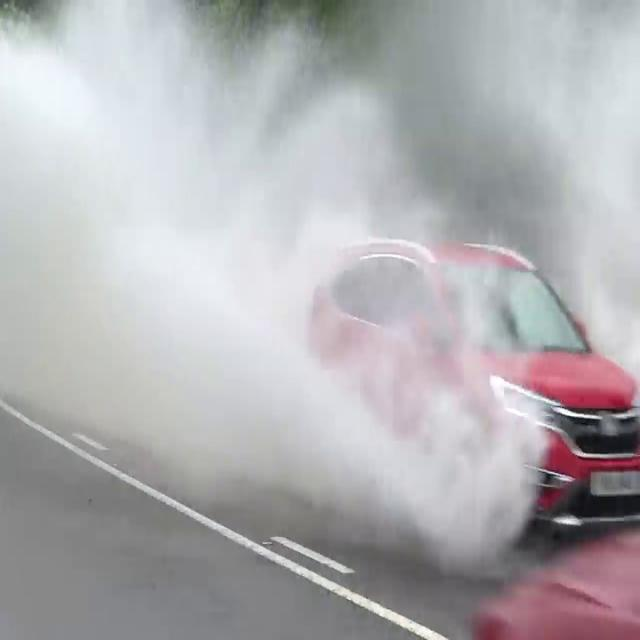license-plate-annotation: (586, 465, 640, 498)
